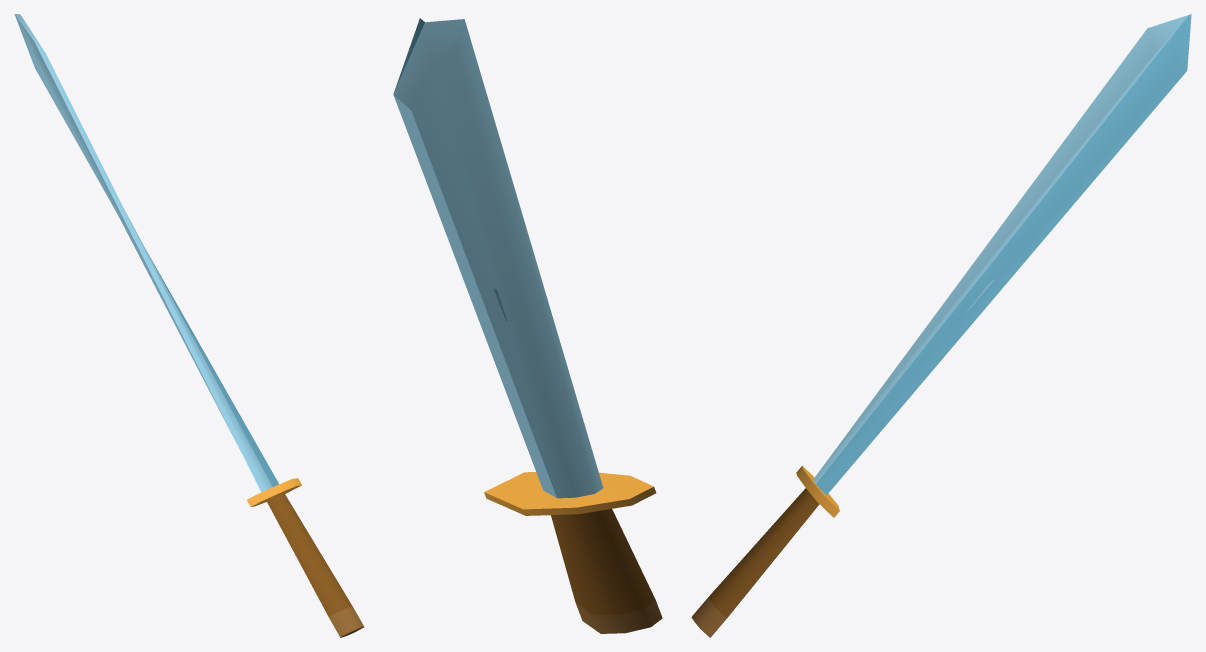
Rendered from espadafbx.fbx.
3 views of the same model, side by side, from view 1: azimuth 30°, elevation 25°; view 2: azimuth 150°, elevation 25°; view 3: azimuth 270°, elevation 25° (orthographic). The views are drawn at different scales.
Visible parts, largest first — view 1: Espada; view 2: Espada; view 3: Espada.
Boxes of the visible parts, x1,y1,x2,y2 form: Espada: (14, 14, 364, 637); Espada: (393, 18, 662, 633); Espada: (691, 14, 1191, 637).
Size of the model in its own units: 32.17 by 112 by 91.37.
